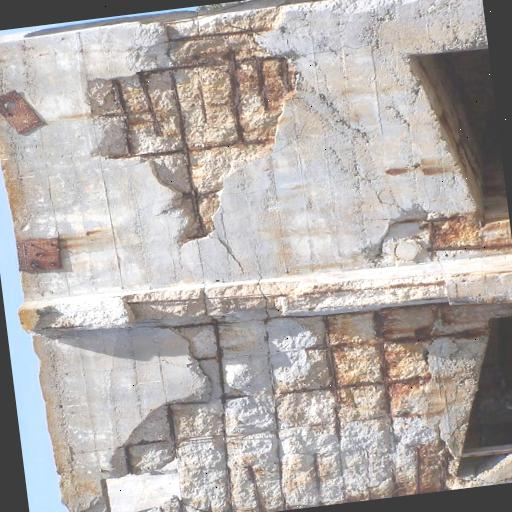spalling: (111, 300, 448, 512), (86, 0, 297, 251), (365, 202, 511, 265)
